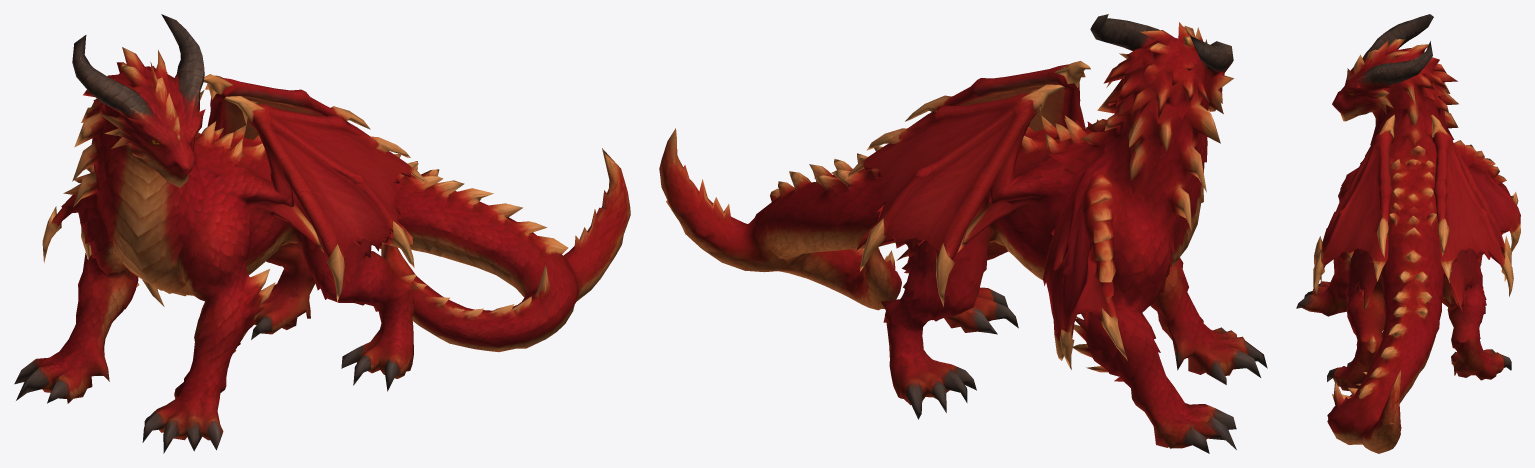
Rendered from original.glb.
The picture shows the model from 3 angles, left to right: view 1: azimuth 30°, elevation 25°; view 2: azimuth 150°, elevation 25°; view 3: azimuth 270°, elevation 25°; orthographic projection. The views are drawn at different scales.
Parts seen in each view (by area): view 1: tripo_node_3e500232-3131-4fb1-9c16-d28a84be907a; view 2: tripo_node_3e500232-3131-4fb1-9c16-d28a84be907a; view 3: tripo_node_3e500232-3131-4fb1-9c16-d28a84be907a.
Boxes of the visible parts, bbox=[...] form: tripo_node_3e500232-3131-4fb1-9c16-d28a84be907a: bbox=[14, 14, 630, 453]; tripo_node_3e500232-3131-4fb1-9c16-d28a84be907a: bbox=[659, 14, 1267, 453]; tripo_node_3e500232-3131-4fb1-9c16-d28a84be907a: bbox=[1296, 14, 1520, 453].
Bounding box in the file's own units: 1 × 0.6167 × 0.4431.
1 material, 1 textured.
